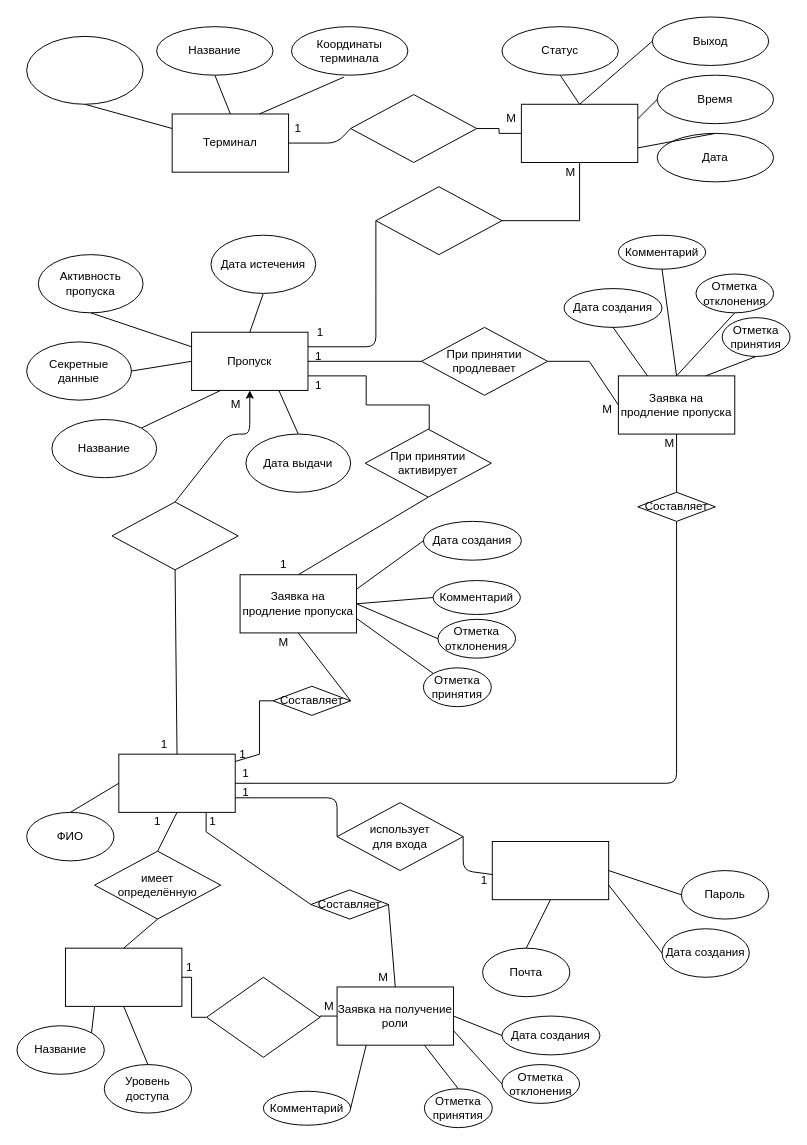
This 807x1145 diagram has some shape labels left out. The centre of each missing label's shape, as x and y in pixels:
Аккаунт: the point at 176,782
используется при: the point at 438,220
Окончание срока действия: the point at 84,69
получает: the point at 174,535
Пользователь: the point at 550,870
При принятии предоставляет: the point at 263,1016
Проход: the point at 579,132
Роль: the point at 123,976
фиксируется при: the point at 413,128
